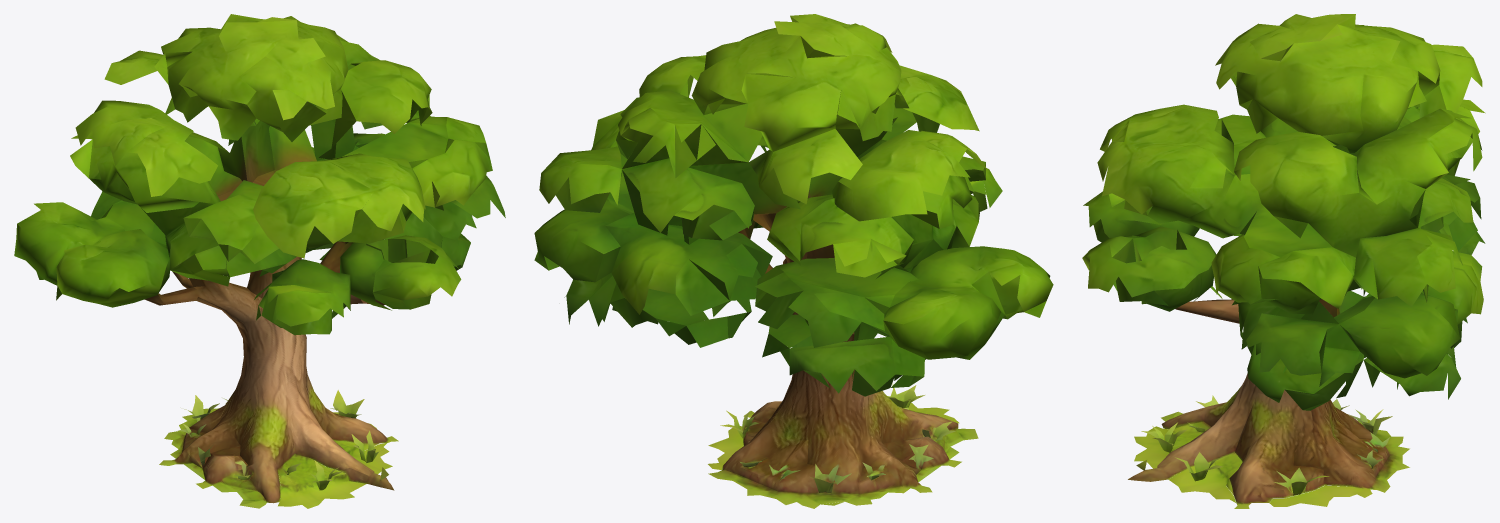
File: tree-oak-green.glb
The picture shows the model from 3 angles, left to right: view 1: azimuth 30°, elevation 25°; view 2: azimuth 150°, elevation 25°; view 3: azimuth 270°, elevation 25°; orthographic projection. The views are drawn at different scales.
Parts seen in each view (by area): view 1: Tree_Oak_Green; view 2: Tree_Oak_Green; view 3: Tree_Oak_Green.
Boxes of the visible parts, x1,y1,x2,y2 form: Tree_Oak_Green: [14, 14, 505, 508]; Tree_Oak_Green: [534, 14, 1053, 508]; Tree_Oak_Green: [1082, 14, 1485, 508].
Bounding box in the file's own units: 10.09 × 9 × 7.56.
Materials: 1 (1 with a texture image).
